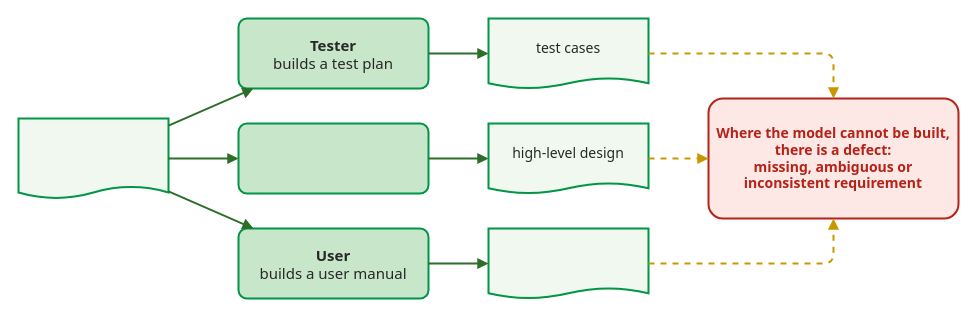
Image size: 976x316. Some labels were removed from this diagram. Here are the shapes that lost their labels. From the top down, the centre of each, then its label:
point (93, 158): Requirements document
point (333, 158): Designer builds a design
point (568, 263): functions, manual
